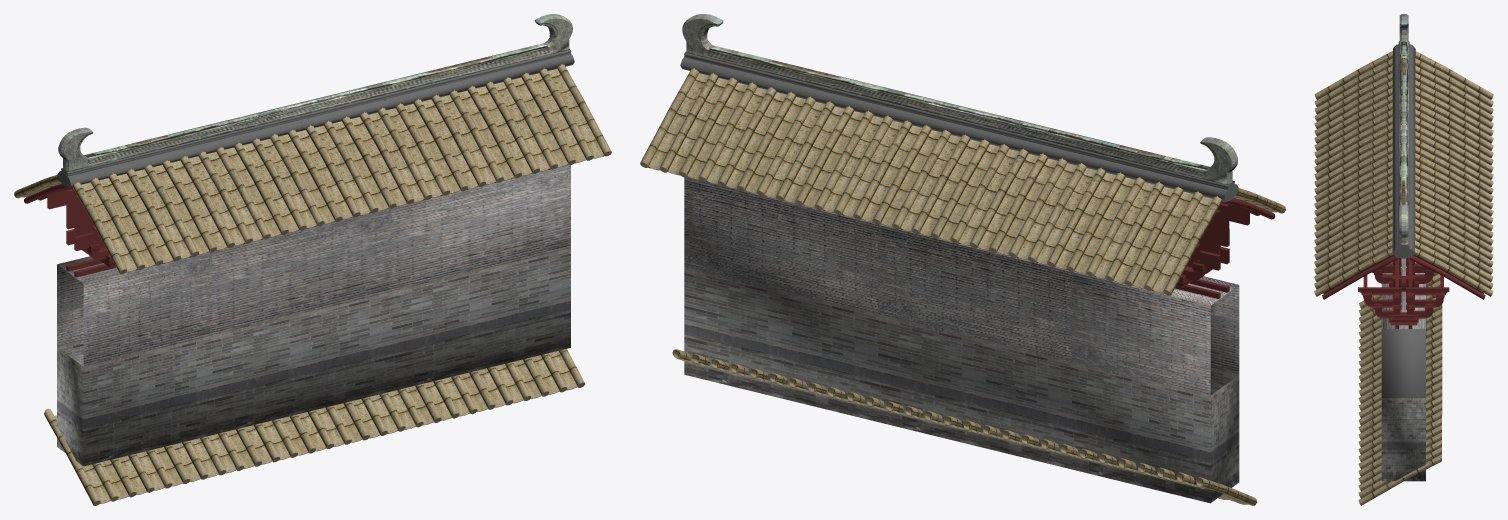
The picture shows the model from 3 angles, left to right: view 1: azimuth 30°, elevation 25°; view 2: azimuth 150°, elevation 25°; view 3: azimuth 270°, elevation 25°; orthographic projection. The views are drawn at different scales.
Parts seen in each view (by area): view 1: Object2977, Object2977.001, Object2973, Object2969, Object2975, Object2972, Object2970, Object2974, Object2971, Object2976, Mesh170; view 2: Object2977, Object2973, Object2969, Object2970, Object2972, Object2975, Object2974, Object2971, Object2976, Object2977.001, Mesh170; view 3: Object2977, Object2977.001, Mesh170, Object2970, Object2969, Object2976, Object2971.
Part boxes in pixels (x1=…): Object2977: x1=14, y1=64, x2=611, y2=274; Object2977.001: x1=44, y1=349, x2=585, y2=505; Object2973: x1=212, y1=292, x2=391, y2=434; Object2969: x1=391, y1=248, x2=570, y2=391; Object2975: x1=57, y1=335, x2=212, y2=466; Object2972: x1=212, y1=208, x2=391, y2=335; Object2970: x1=391, y1=164, x2=570, y2=291; Object2974: x1=57, y1=252, x2=212, y2=366; Object2971: x1=58, y1=14, x2=572, y2=171; Object2976: x1=57, y1=48, x2=574, y2=187; Mesh170: x1=24, y1=155, x2=604, y2=277; Object2977: x1=640, y1=68, x2=1285, y2=295; Object2973: x1=878, y1=314, x2=1071, y2=469; Object2969: x1=684, y1=267, x2=877, y2=421; Object2970: x1=684, y1=176, x2=877, y2=314; Object2972: x1=878, y1=224, x2=1071, y2=361; Object2975: x1=1071, y1=362, x2=1239, y2=503; Object2974: x1=1071, y1=271, x2=1239, y2=395; Object2971: x1=682, y1=14, x2=1237, y2=184; Object2976: x1=680, y1=51, x2=1238, y2=201; Object2977.001: x1=672, y1=349, x2=1256, y2=505; Mesh170: x1=648, y1=167, x2=1275, y2=298; Object2977: x1=1314, y1=51, x2=1493, y2=296; Object2977.001: x1=1358, y1=272, x2=1442, y2=505; Mesh170: x1=1322, y1=254, x2=1485, y2=328; Object2970: x1=1381, y1=258, x2=1425, y2=397; Object2969: x1=1381, y1=398, x2=1425, y2=481; Object2976: x1=1392, y1=41, x2=1415, y2=258; Object2971: x1=1399, y1=14, x2=1408, y2=245.
Size of the model in its own units: 12.59 by 8.36 by 4.59.
Materials: 6 (6 with a texture image).
